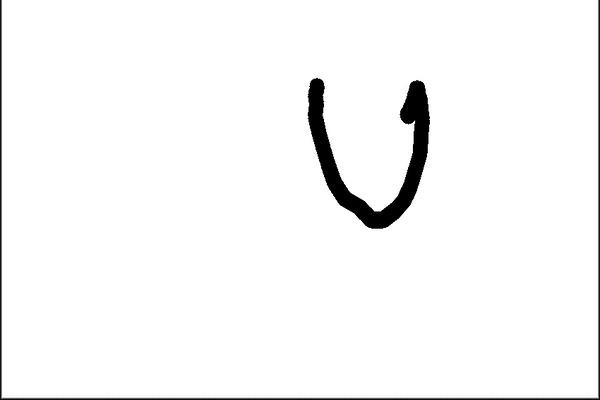U: (300, 51, 427, 238)
